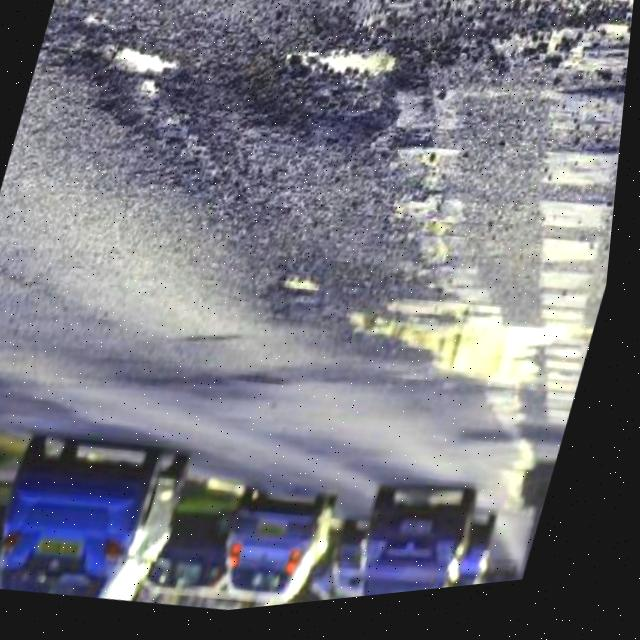Pothole: (245, 31, 419, 163), (53, 34, 200, 161), (280, 277, 331, 313)
